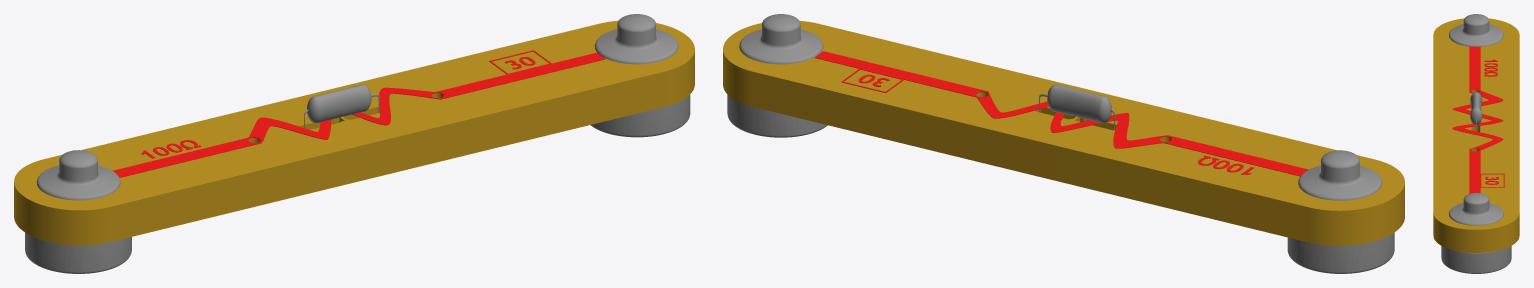
File: Resistance.FBX
3 renders of one model, left to right at view 1: azimuth 30°, elevation 25°; view 2: azimuth 150°, elevation 25°; view 3: azimuth 270°, elevation 25°, orthographic. The views are drawn at different scales.
Visible parts, largest first — view 1: Base, ButtonUp (×2), ButtonDown (×2), Text, resistance; view 2: Base, ButtonUp (×2), ButtonDown (×2), Text, resistance; view 3: Base, ButtonUp (×2), Text (×3), ButtonDown, resistance.
Boxes of the visible parts, x1,y1,x2,y2 form: Base: (14, 20, 694, 245); ButtonUp (×2): (36, 14, 678, 200); ButtonDown (×2): (25, 95, 690, 273); Text: (112, 50, 605, 177); resistance: (307, 84, 371, 123); Base: (723, 21, 1404, 245); ButtonUp (×2): (739, 14, 1382, 200); ButtonDown (×2): (727, 94, 1394, 273); Text: (814, 51, 1308, 176); resistance: (1047, 84, 1111, 123); Base: (1433, 18, 1519, 252); ButtonUp (×2): (1449, 14, 1503, 225); Text (×3): (1452, 46, 1504, 193); ButtonDown: (1441, 246, 1511, 273); resistance: (1470, 92, 1482, 125).
Size of the model in its own units: 94.52 by 13.37 by 16.2.
